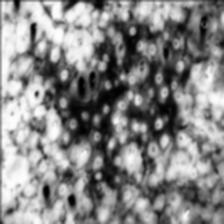Potentially Malignant Skin Tumors: (36, 17, 148, 211)
